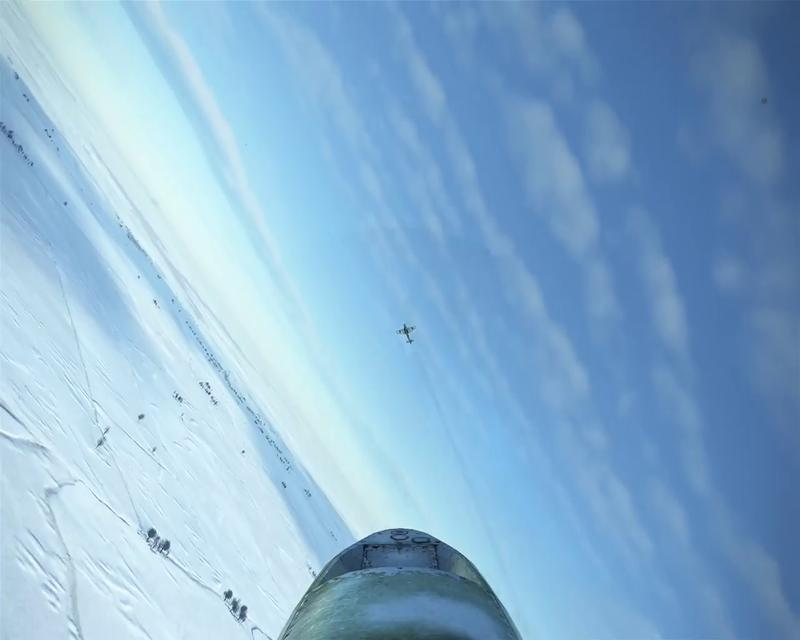UAV: (395, 323, 418, 344)
